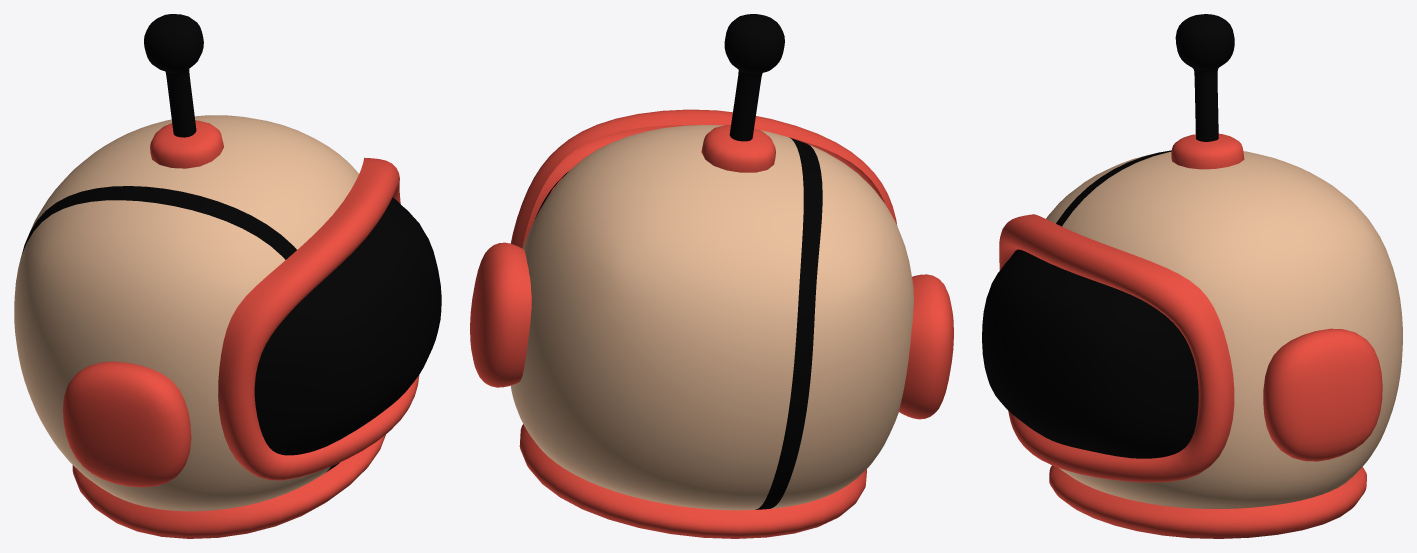
File: modell.glb
3 renders of one model, left to right at view 1: azimuth 30°, elevation 25°; view 2: azimuth 150°, elevation 25°; view 3: azimuth 270°, elevation 25°, orthographic. The views are drawn at different scales.
Parts seen in each view (by area): view 1: A_C_02, A_C_02.001; view 2: A_C_02.001, A_C_02; view 3: A_C_02, A_C_02.001.
Boxes of the visible parts, bbox=[...] form: A_C_02: bbox=[63, 14, 441, 538]; A_C_02.001: bbox=[14, 115, 358, 511]; A_C_02.001: bbox=[510, 124, 913, 510]; A_C_02: bbox=[470, 14, 953, 538]; A_C_02: bbox=[982, 14, 1382, 538]; A_C_02.001: bbox=[1046, 150, 1402, 508].
Bounding box in the file's own units: 2.66 × 3.13 × 2.56.
